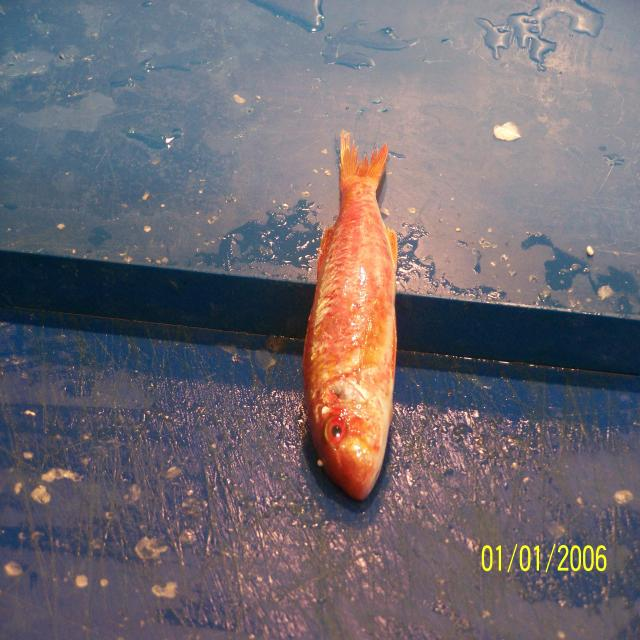Red-Mullet-kefal-: (302, 131, 398, 506)
